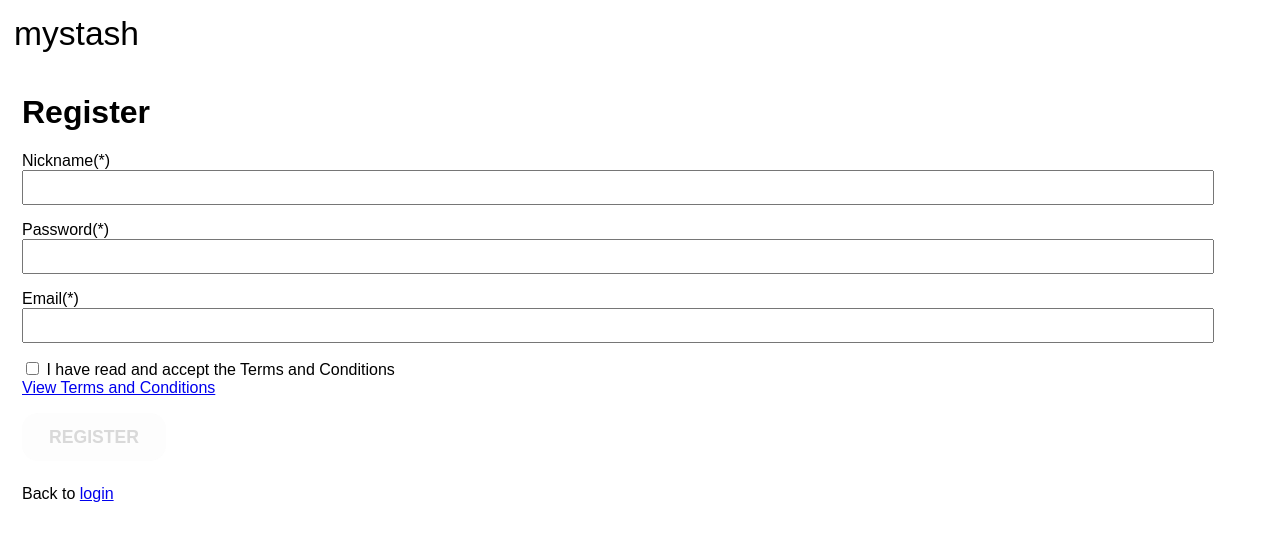
Register › does not register when the terms are not accepted
This screenshot has width=1271, height=537.
In the field labelled "Nickname(*)": [618, 188] box [22,170,1214,205], type "TestUser"
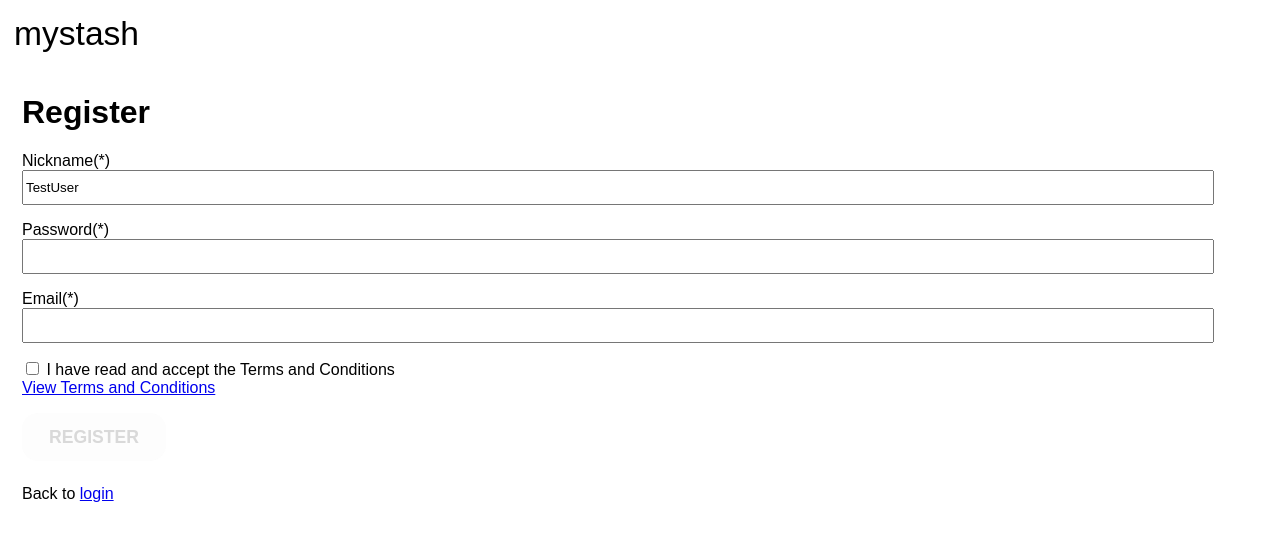
In the password field labelled "Password(*)": [618, 256] box [22,239,1214,274], type "password123"
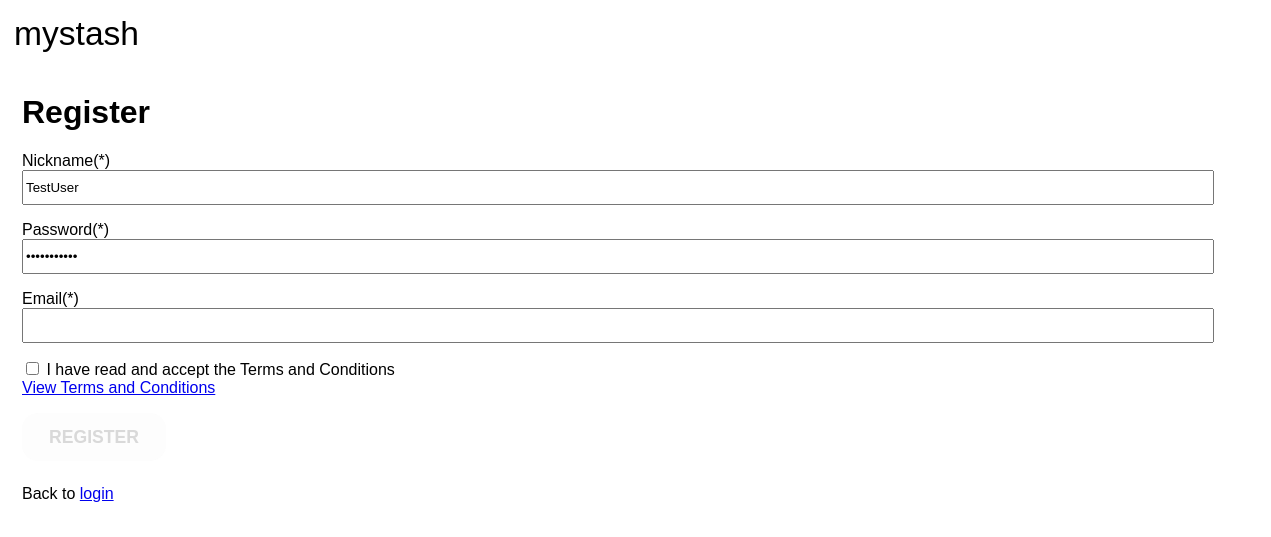
In the field labelled "Email(*)": [618, 325] box [22,308,1214,343], type "test@example.com"
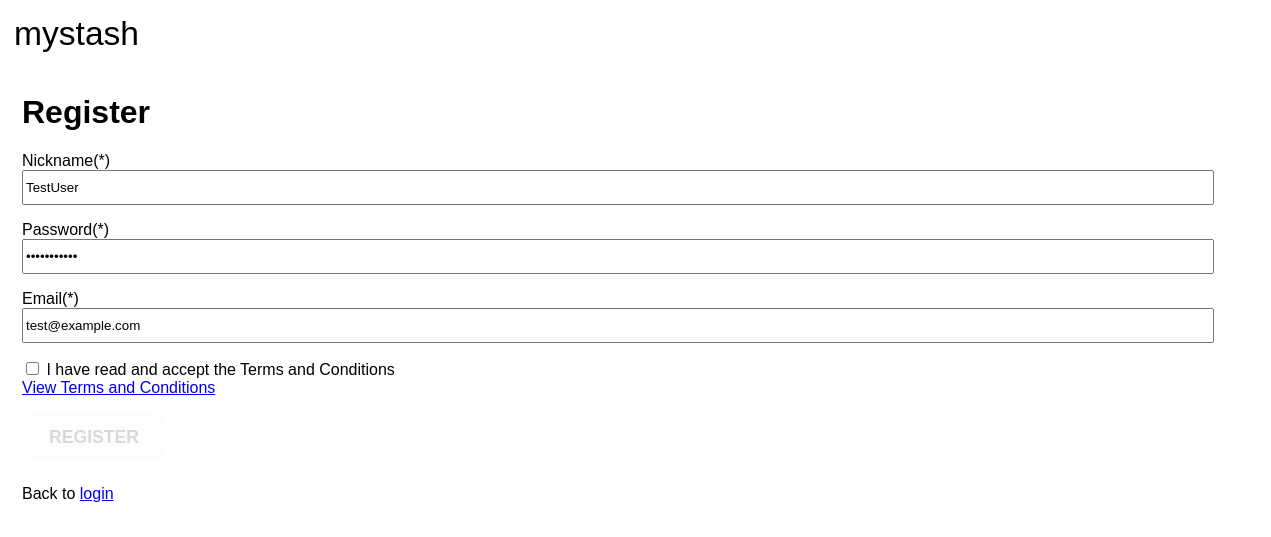
Submit the form named "Register", box [22,152,1254,477]
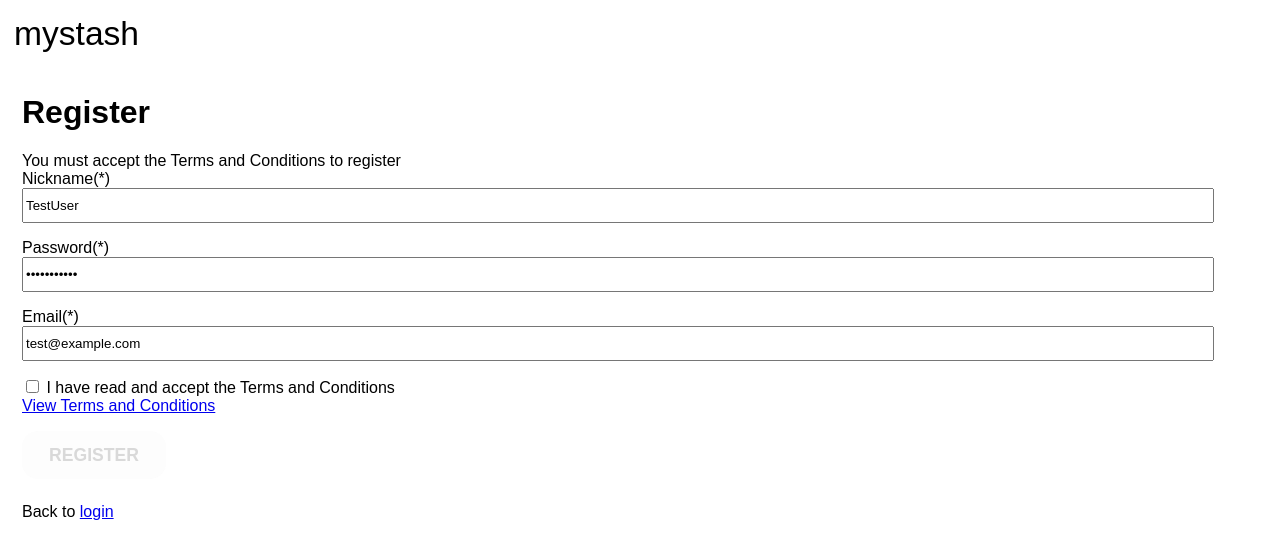
Check: the text "You must accept the Terms and Conditions to register" is shown, box [22,152,401,169]
